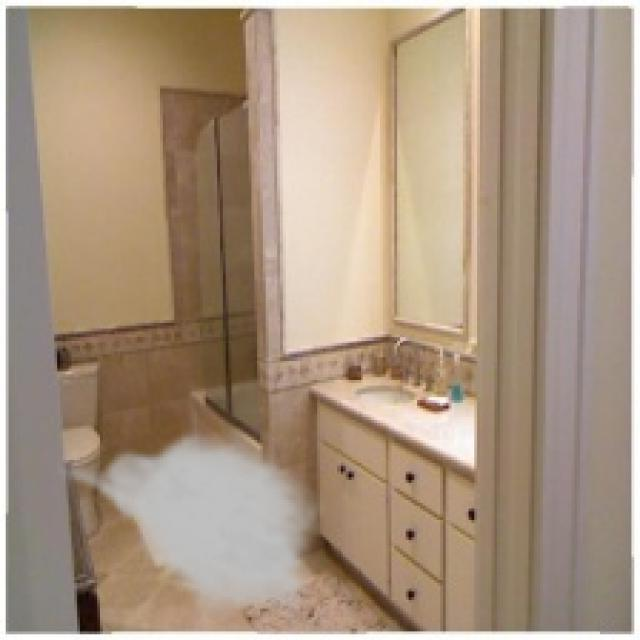Smoke: (51, 426, 326, 626)
